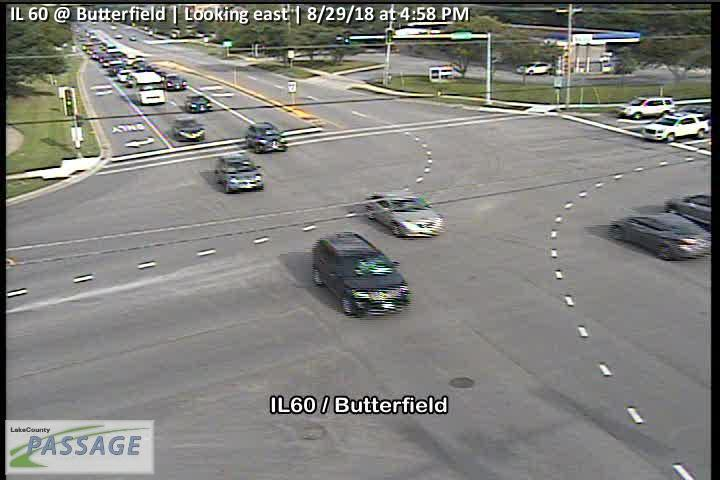Bus: (131, 72, 167, 105)
SUV: (311, 232, 409, 318), (216, 153, 264, 193), (616, 94, 675, 120), (246, 122, 287, 154)
Sedan: (603, 208, 710, 262), (364, 190, 443, 240), (642, 111, 710, 143), (664, 194, 713, 228), (172, 117, 206, 142), (185, 94, 212, 114), (164, 74, 188, 91), (117, 69, 134, 83), (108, 64, 124, 77), (101, 58, 116, 68)
